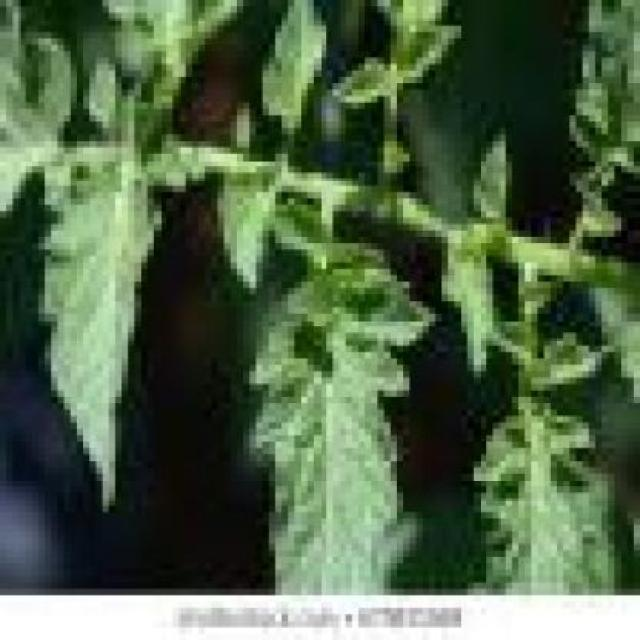Healthy Leaf: (243, 294, 397, 589), (45, 147, 166, 519), (256, 6, 333, 154), (218, 154, 288, 294), (442, 230, 500, 384), (268, 199, 327, 263)
